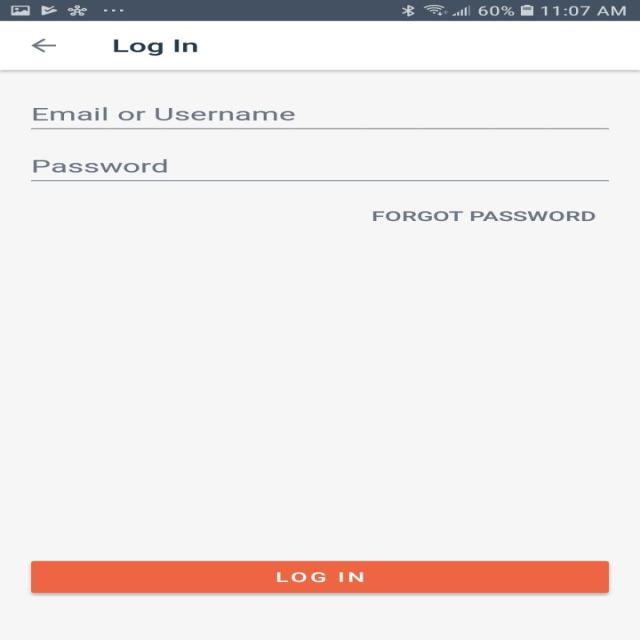EditText: (31, 158, 609, 182), (31, 107, 609, 130)
Icon: (31, 38, 56, 52)
Text: (32, 107, 294, 121), (372, 211, 594, 221), (33, 158, 167, 173), (112, 39, 198, 56)
TextButton: (31, 560, 609, 592)
